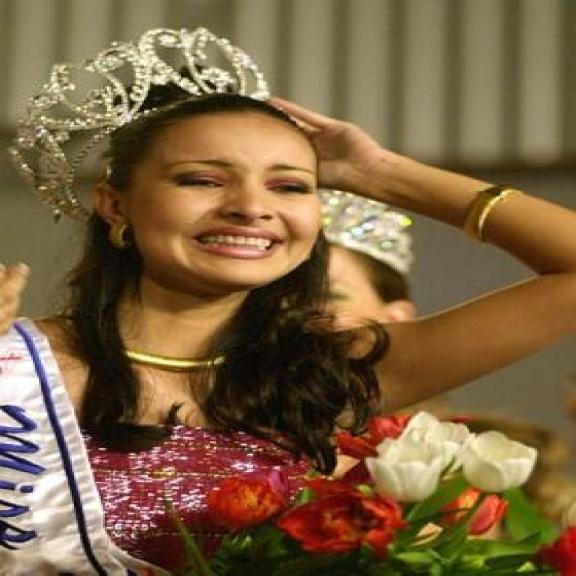face: (87, 109, 330, 293)
